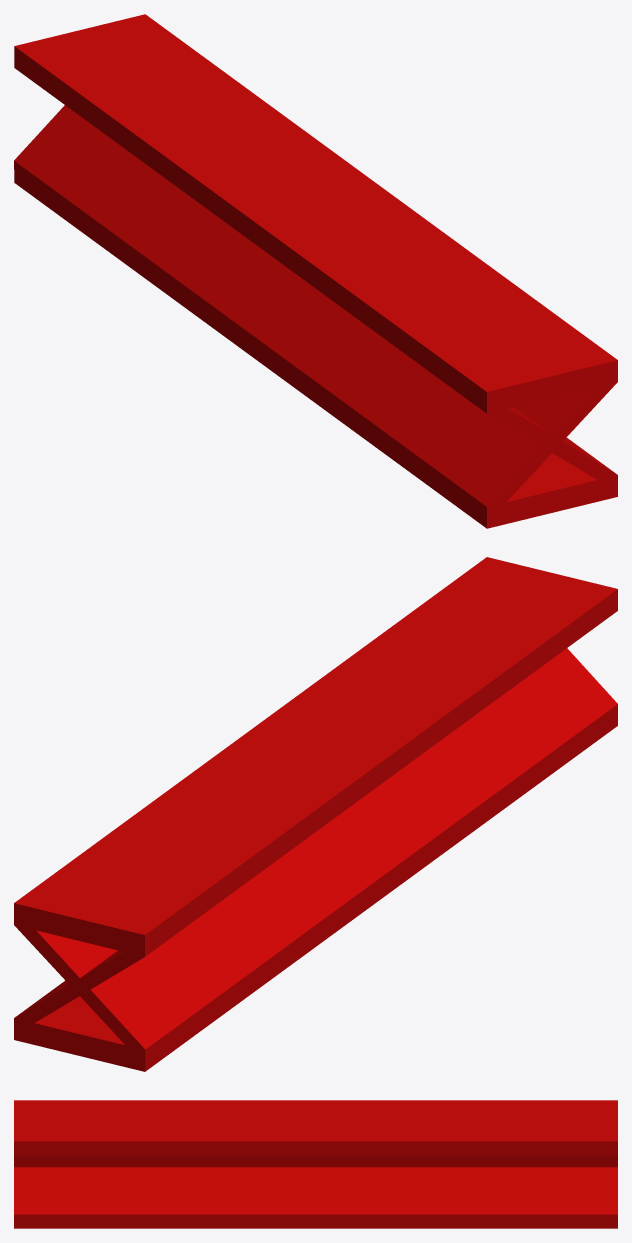
Rendered from platform.obj.
The picture shows the model from 3 angles, top to bottom: view 1: azimuth 30°, elevation 25°; view 2: azimuth 150°, elevation 25°; view 3: azimuth 270°, elevation 25°; orthographic projection. The views are drawn at different scales.
Parts seen in each view (by area): view 1: platform_Cube.004; view 2: platform_Cube.004; view 3: platform_Cube.004.
Part boxes in pixels (x1,y1,x2,y2): platform_Cube.004: [14, 14, 617, 528]; platform_Cube.004: [14, 557, 617, 1071]; platform_Cube.004: [14, 1100, 617, 1228].
Bounding box in the file's own units: 0.4815 × 0.4788 × 3.
